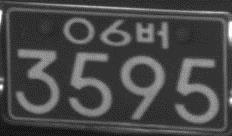0: (62, 16, 96, 45)
3: (14, 47, 59, 115)
5: (173, 56, 220, 125), (67, 51, 112, 118)
6: (99, 18, 133, 47)
9: (118, 54, 166, 120)
버: (134, 20, 169, 49)
